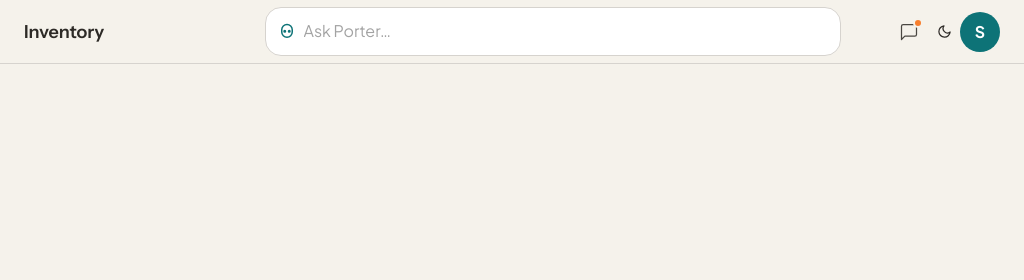
Test case: TopBar › opens the account menu with profile, settings, log out
The image size is (1024, 280).
What coordinates should you click on to do the following:
click the button named "Account menu"
I would click on:
 (980, 32)
Its box is [960,12,1000,52].
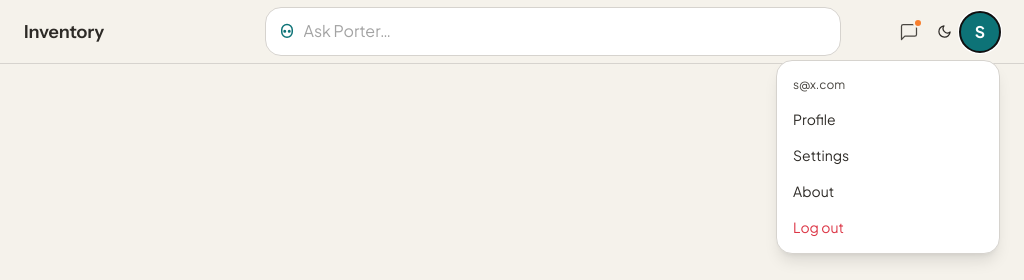
Result: the menu item "Profile" is shown at [793,110,836,128]
Result: the menu item "Log out" is shown at [777,208,999,244]
